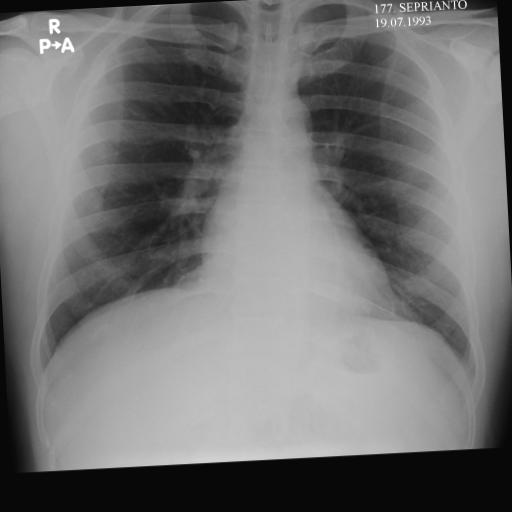normal: (12, 0, 488, 421)
